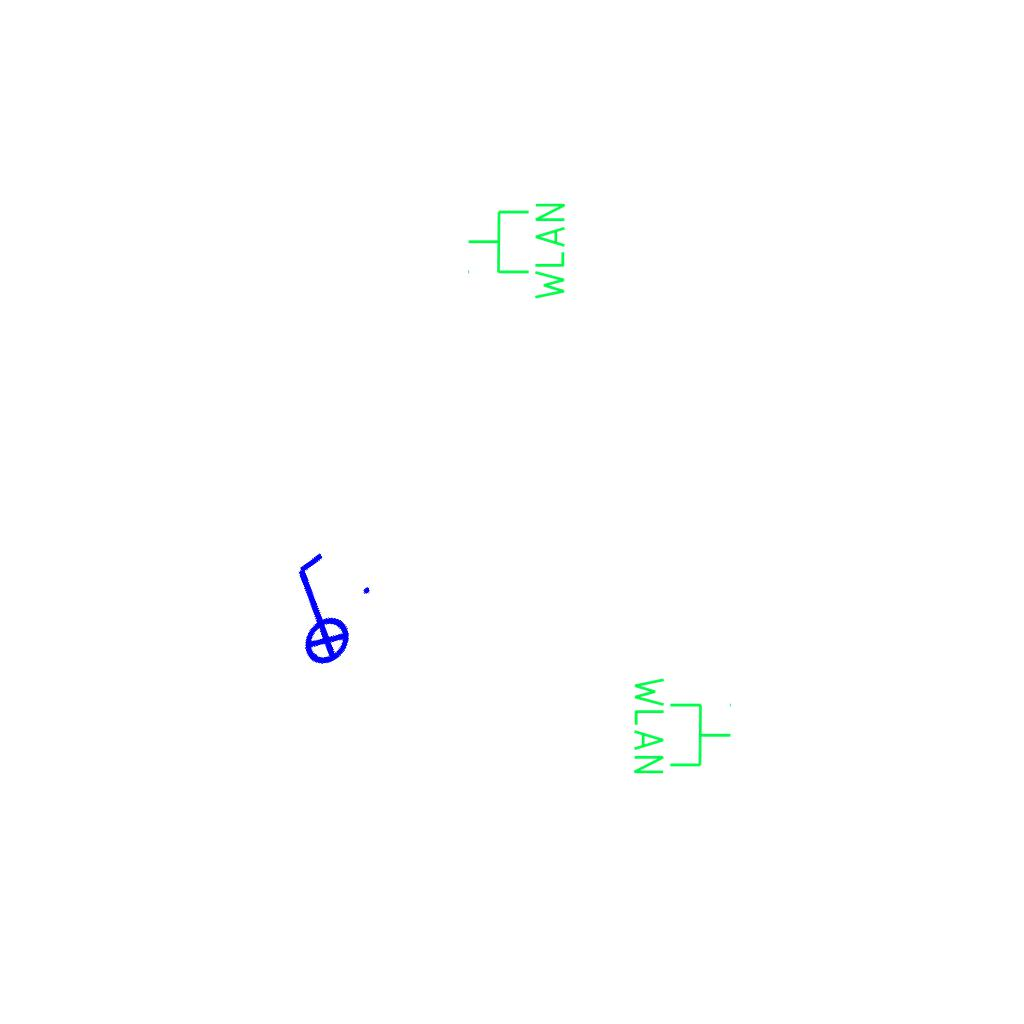Ausschalter_beleuchtet: (244, 537, 390, 685)
WLAN: (465, 199, 569, 304), (630, 673, 734, 778)
